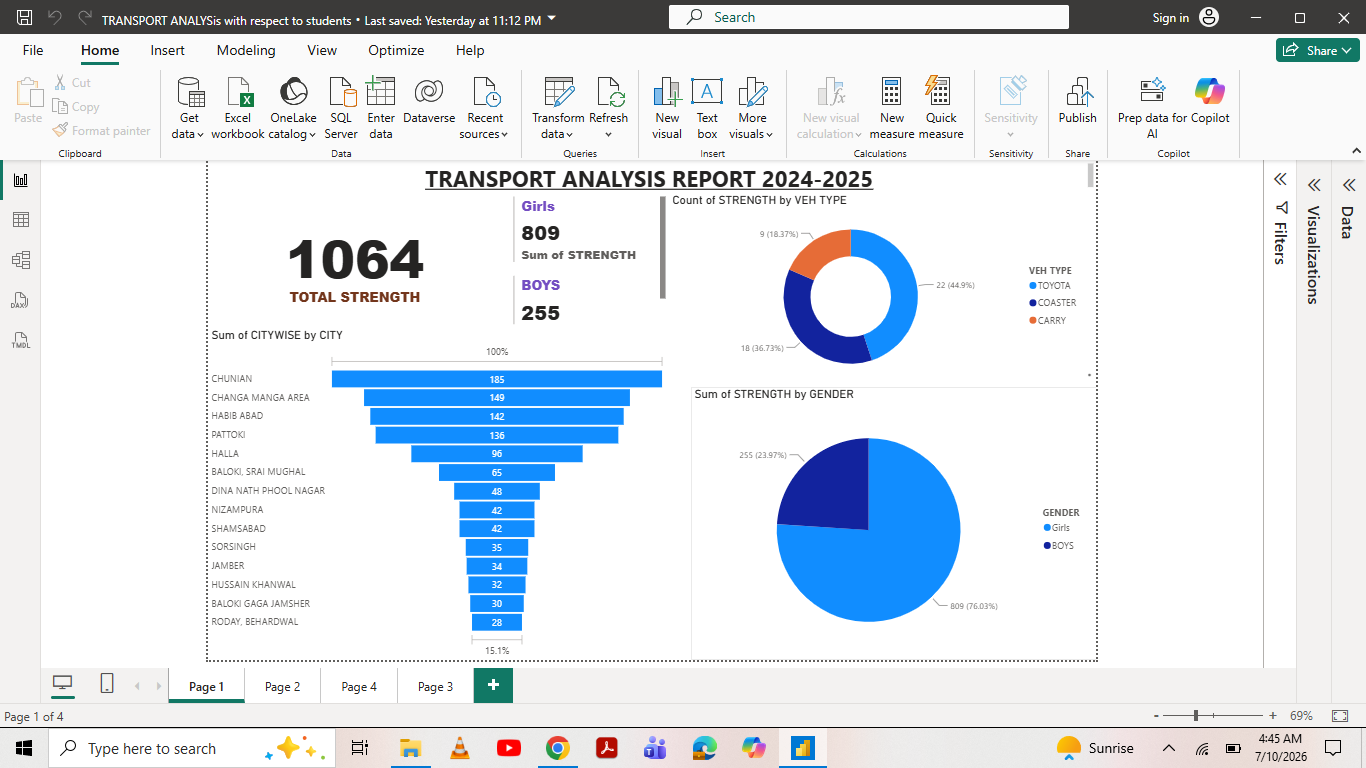

What the dashboard file says about the page in this screenshot:
{"tool":"powerbi","page":{"name":"Page 1","canvas":[1280,720],"ordinal":0},"visuals":[{"type":"funnel","fields":{"Category":["Power Bi.CITY"],"Y":["Sum(Power Bi.CITYWISE)"]},"box":[0,241.9,663.8,478.1],"z":0},{"type":"pieChart","fields":{"Category":["Power Bi.GENDER"],"Y":["Sum(Power Bi.STRENGTH)"]},"box":[695.5,326.9,584.6,393.1],"z":1000},{"type":"donutChart","fields":{"Category":["Power Bi.VEH TYPE"],"Y":["CountNonNull(Power Bi.STRENGTH)"]},"box":[663.8,47.5,603.4,279.4],"z":2000},{"type":"card","fields":{"Values":["Sum(Power Bi.STRENGTH)"]},"box":[77.8,57.6,267.8,184.3],"z":3000},{"type":"multiRowCard","fields":{"Values":["Sum(Power Bi.STRENGTH)","Power Bi.GENDER"]},"box":[434.9,47.5,229,194.4],"z":4000},{"type":"textbox","box":[0,0,1280.2,47.5],"z":5000}]}

Visuals, with their boxes on the page's 1280x720 design canvas (x1, y1, x2, y2). These are canvas units, not pixel positions in the 1366x768 screenshot, which may show the page scaled, cropped or inside an application window:
funnel - Power Bi.CITY x Sum(Power Bi.CITYWISE): bbox=[0, 242, 664, 720]
pieChart - Power Bi.GENDER x Sum(Power Bi.STRENGTH): bbox=[696, 327, 1280, 720]
donutChart - Power Bi.VEH TYPE x CountNonNull(Power Bi.STRENGTH): bbox=[664, 48, 1267, 327]
card - Sum(Power Bi.STRENGTH): bbox=[78, 58, 346, 242]
multiRowCard - Sum(Power Bi.STRENGTH) x Power Bi.GENDER: bbox=[435, 48, 664, 242]
textbox: bbox=[0, 0, 1280, 48]
